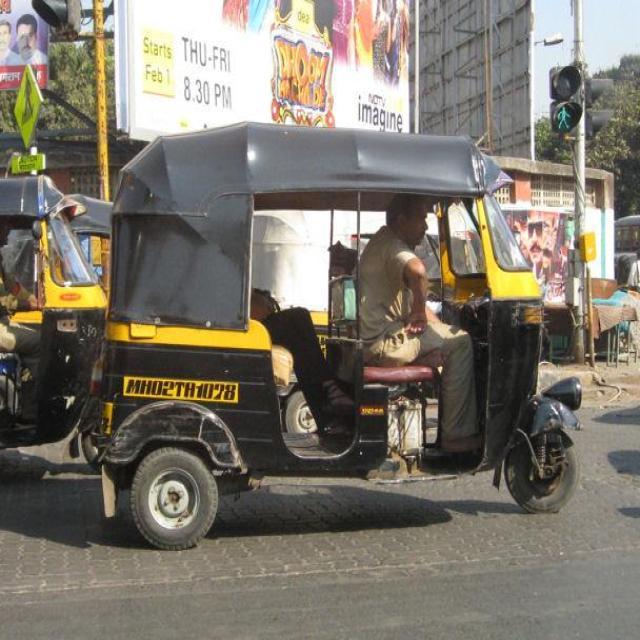auto ahead at: (88, 119, 588, 558)
